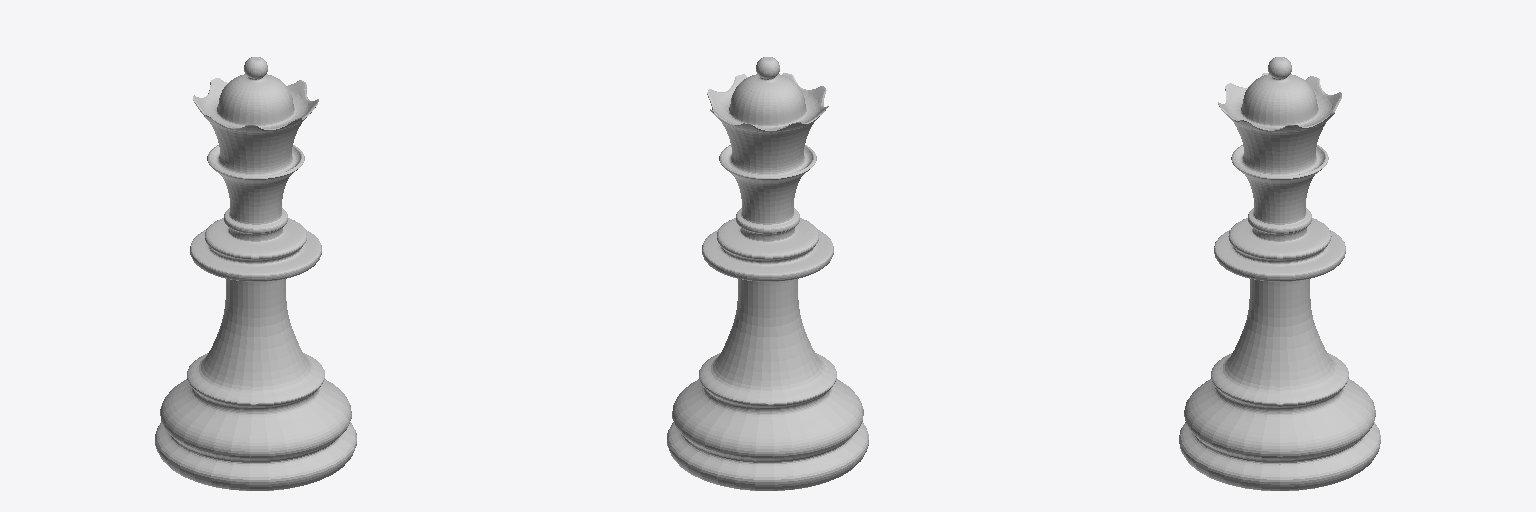
Rendered from Queen.obj.
3 views of the same model, side by side, from view 1: azimuth 30°, elevation 25°; view 2: azimuth 150°, elevation 25°; view 3: azimuth 270°, elevation 25° (orthographic).
Parts seen in each view (by area): view 1: Cube.003_Cube.004; view 2: Cube.003_Cube.004; view 3: Cube.003_Cube.004.
Boxes of the visible parts, x1=… form: Cube.003_Cube.004: x1=155, y1=57, x2=356, y2=490; Cube.003_Cube.004: x1=667, y1=57, x2=868, y2=490; Cube.003_Cube.004: x1=1179, y1=57, x2=1380, y2=490.
Bounding box in the file's own units: 4.44 × 9.52 × 4.44.